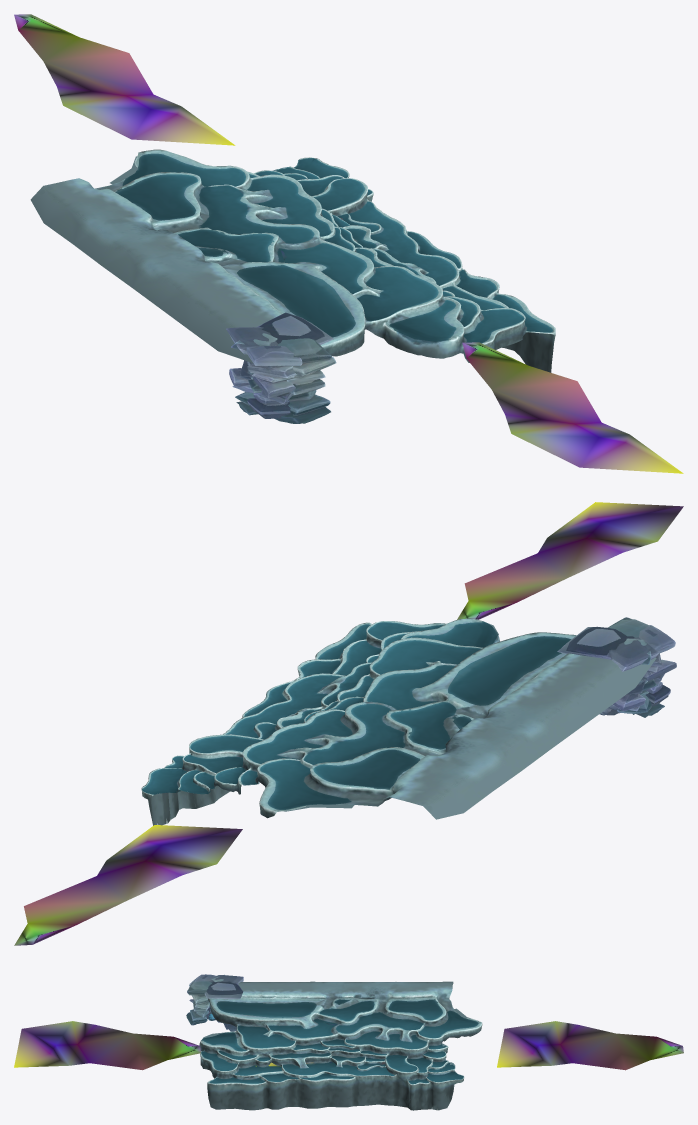
Rendered from SaltFlatsEnvironment_mobile.fbx.
The picture shows the model from 3 angles, top to bottom: view 1: azimuth 30°, elevation 25°; view 2: azimuth 150°, elevation 25°; view 3: azimuth 270°, elevation 25°; orthographic projection. The views are drawn at different scales.
Visible parts, largest first — view 1: TerraceBasin_geo, TerraceWater_geo, SalioaPlant_1_inst, SalioaPlant_3_inst, Hoodoo_Right_geo, Hoodoo_Left_geo; view 2: TerraceBasin_geo, TerraceWater_geo, SalioaPlant_1_inst, SalioaPlant_3_inst, Hoodoo_Right_geo, Hoodoo_Left_geo; view 3: TerraceBasin_geo, TerraceWater_geo, SalioaPlant_3_inst, SalioaPlant_1_inst, Hoodoo_Right_geo, Hoodoo_Left_geo.
Part boxes in pixels (x1=…): TerraceBasin_geo: x1=30, y1=149, x2=555, y2=372; TerraceWater_geo: x1=110, y1=153, x2=552, y2=343; SalioaPlant_1_inst: x1=14, y1=14, x2=235, y2=145; SalioaPlant_3_inst: x1=462, y1=342, x2=683, y2=473; Hoodoo_Right_geo: x1=226, y1=312, x2=333, y2=418; Hoodoo_Left_geo: x1=231, y1=333, x2=336, y2=423; TerraceBasin_geo: x1=141, y1=618, x2=656, y2=825; TerraceWater_geo: x1=141, y1=621, x2=570, y2=811; SalioaPlant_1_inst: x1=14, y1=825, x2=242, y2=945; SalioaPlant_3_inst: x1=457, y1=502, x2=683, y2=619; Hoodoo_Right_geo: x1=557, y1=625, x2=676, y2=715; Hoodoo_Left_geo: x1=608, y1=617, x2=664, y2=717; TerraceBasin_geo: x1=199, y1=981, x2=482, y2=1110; TerraceWater_geo: x1=201, y1=999, x2=478, y2=1084; SalioaPlant_3_inst: x1=14, y1=1021, x2=200, y2=1070; SalioaPlant_1_inst: x1=497, y1=1021, x2=683, y2=1070; Hoodoo_Right_geo: x1=189, y1=974, x2=243, y2=1031; Hoodoo_Left_geo: x1=186, y1=974, x2=224, y2=1025.
Size of the model in its own units: 121 by 40.25 by 416.
